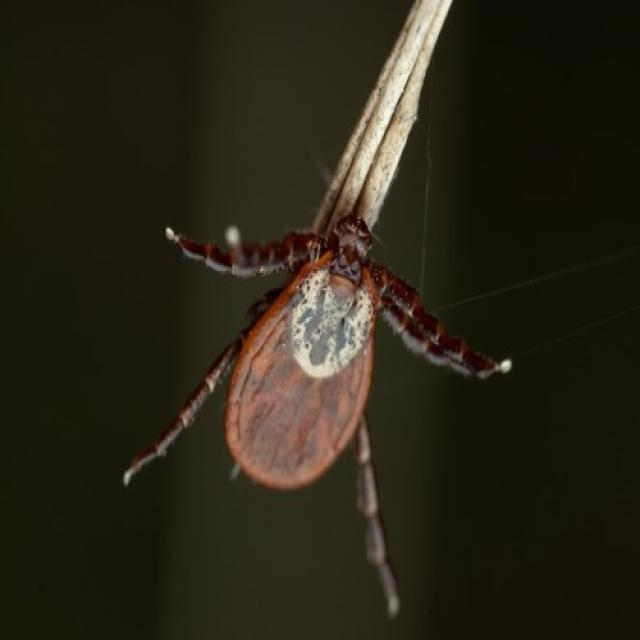Dermacentor Reticulatus-F: (145, 208, 503, 607)
